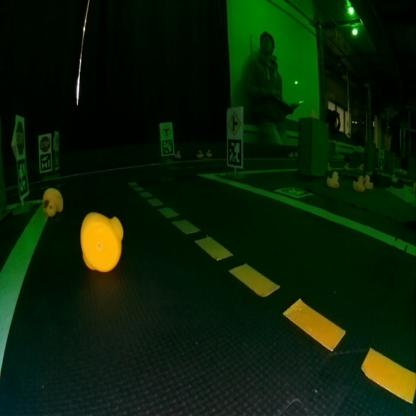Duckie: (80, 210, 122, 270), (42, 188, 62, 215), (352, 174, 364, 187), (328, 171, 338, 185), (365, 174, 371, 186), (205, 149, 212, 157), (196, 149, 202, 158), (174, 150, 180, 158)
Intersection sign: (226, 110, 240, 135), (160, 123, 170, 135)
QR code: (16, 157, 28, 197), (226, 139, 242, 166), (278, 185, 312, 197), (161, 138, 174, 155), (39, 153, 51, 170)
Stop sign: (16, 120, 24, 156), (38, 133, 51, 151)
